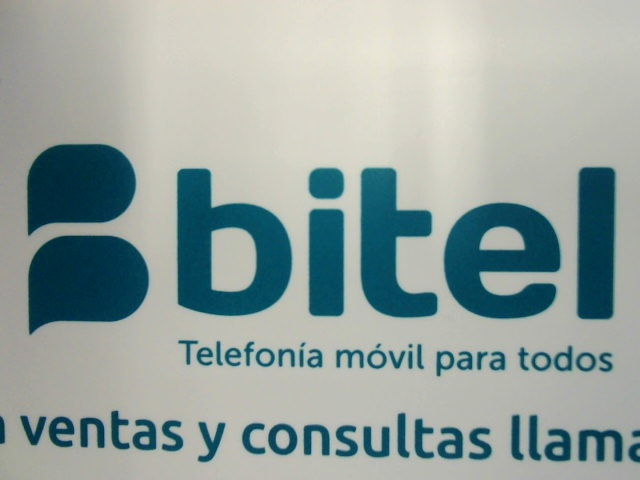BE_bitel: (19, 141, 626, 339)
